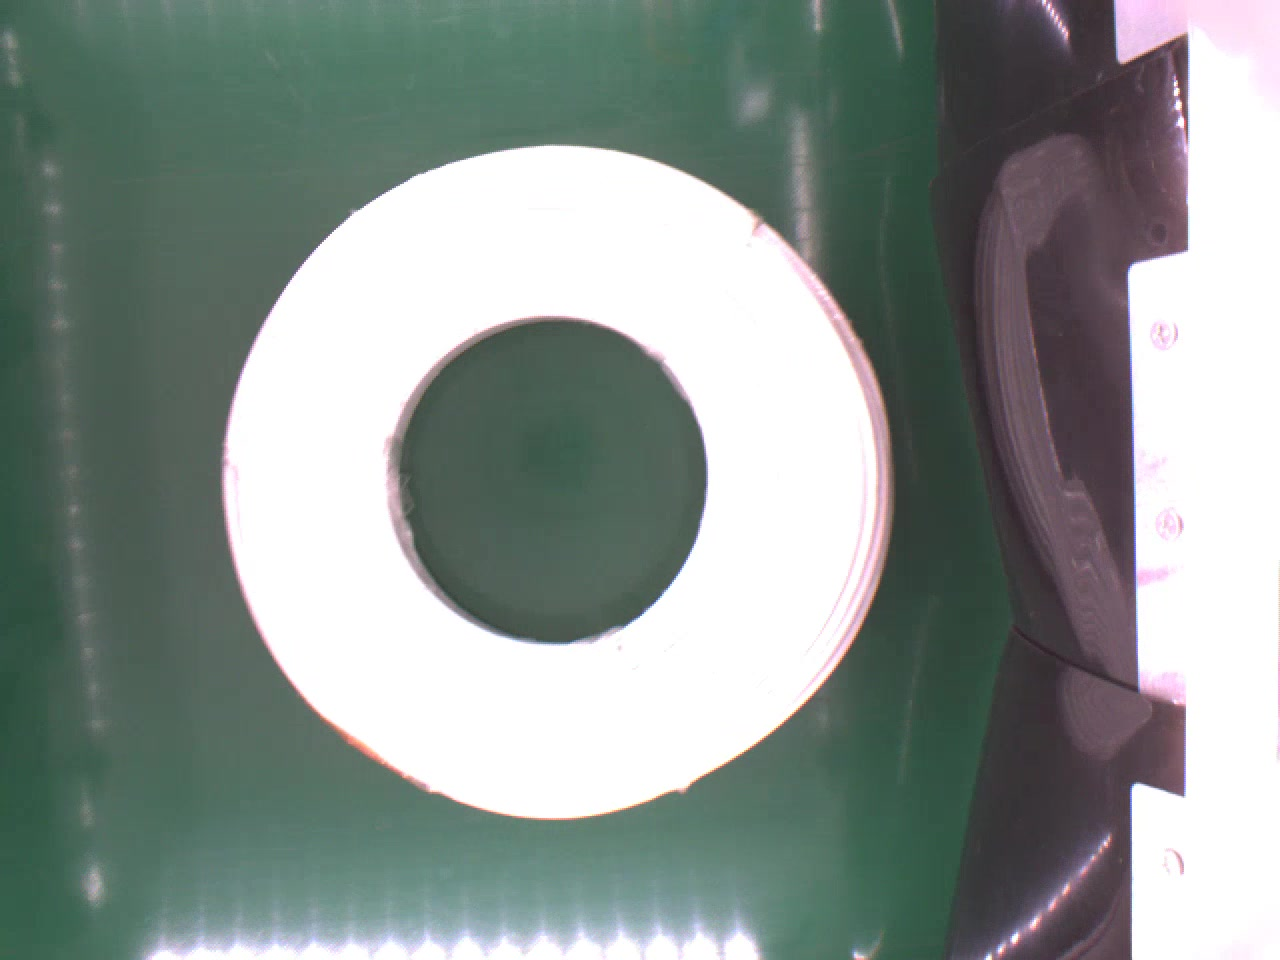white: (217, 140, 917, 827)
